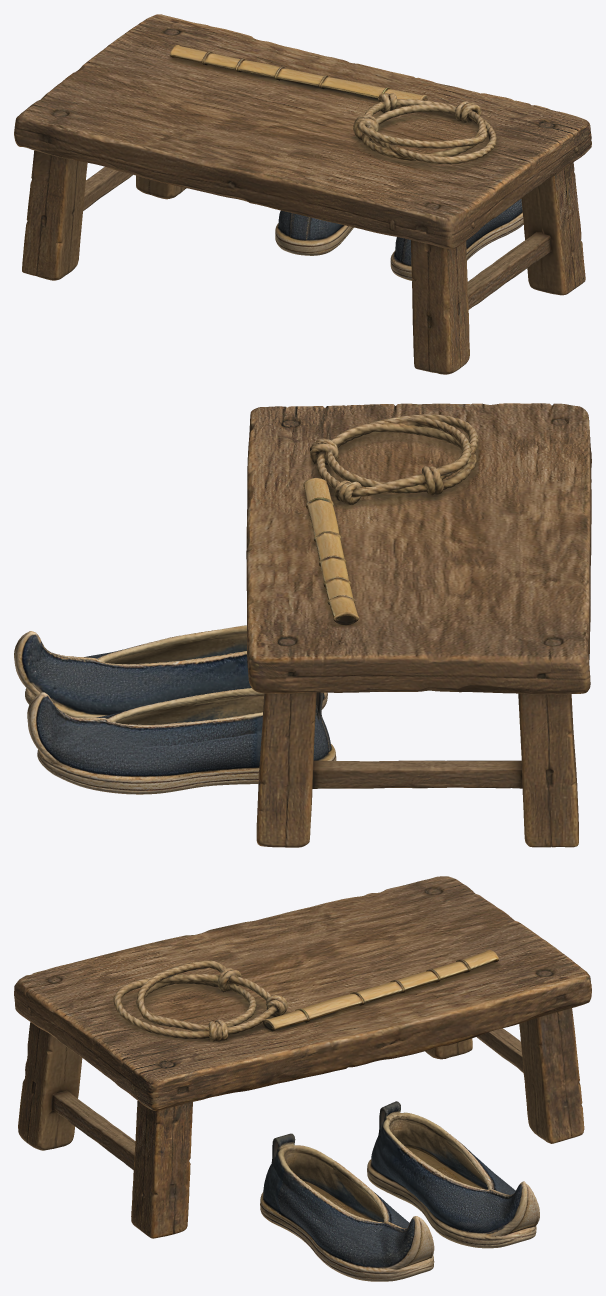
3 renders of one model, top to bottom at view 1: azimuth 30°, elevation 25°; view 2: azimuth 150°, elevation 25°; view 3: azimuth 270°, elevation 25°, orthographic. The views are drawn at different scales.
Parts seen in each view (by area): view 1: tripo_node_e0d0126e-c12b-4397-9712-7afad19bdc2d; view 2: tripo_node_e0d0126e-c12b-4397-9712-7afad19bdc2d; view 3: tripo_node_e0d0126e-c12b-4397-9712-7afad19bdc2d.
Part boxes in pixels (x1,y1,x2,y2): tripo_node_e0d0126e-c12b-4397-9712-7afad19bdc2d: [14, 14, 591, 374]; tripo_node_e0d0126e-c12b-4397-9712-7afad19bdc2d: [14, 403, 591, 847]; tripo_node_e0d0126e-c12b-4397-9712-7afad19bdc2d: [14, 876, 591, 1281].
Bounding box in the file's own units: 1.1 × 0.4253 × 1.11.
Materials: 1 (1 with a texture image).
